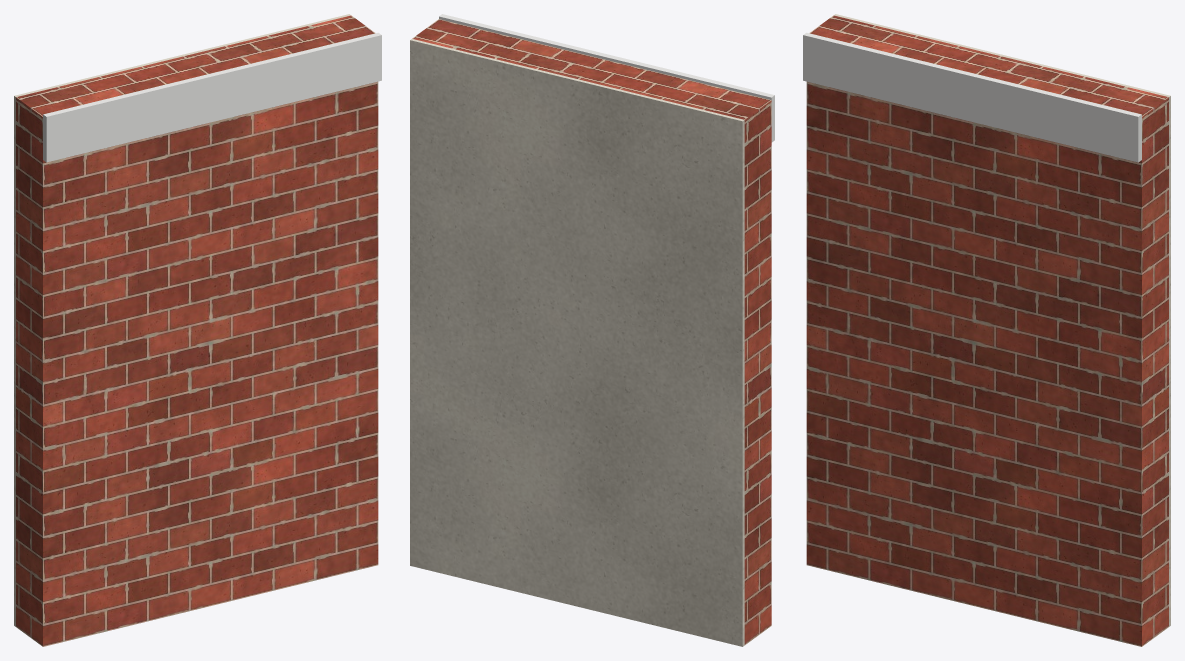
File: wall_hall_upper.glb
The picture shows the model from 3 angles, left to right: view 1: azimuth 30°, elevation 25°; view 2: azimuth 150°, elevation 25°; view 3: azimuth 330°, elevation 25°; orthographic projection.
Visible parts, largest first — view 1: wall_hall_upper_brick, wall_hall_upper_trim, wall_hall_upper_plaster; view 2: wall_hall_upper_plaster, wall_hall_upper_brick, wall_hall_upper_trim; view 3: wall_hall_upper_brick, wall_hall_upper_trim, wall_hall_upper_plaster.
Boxes of the visible parts, bbox=[...] form: wall_hall_upper_brick: bbox=[16, 15, 378, 646]; wall_hall_upper_trim: bbox=[43, 32, 381, 162]; wall_hall_upper_plaster: bbox=[14, 14, 350, 626]; wall_hall_upper_plaster: bbox=[410, 39, 744, 646]; wall_hall_upper_brick: bbox=[412, 19, 771, 644]; wall_hall_upper_trim: bbox=[439, 14, 774, 142]; wall_hall_upper_brick: bbox=[806, 15, 1168, 646]; wall_hall_upper_trim: bbox=[803, 32, 1141, 162]; wall_hall_upper_plaster: bbox=[834, 14, 1170, 626].
Bounding box in the file's own units: 2 × 3.04 × 0.335.
Materials: 3 (2 with a texture image).
